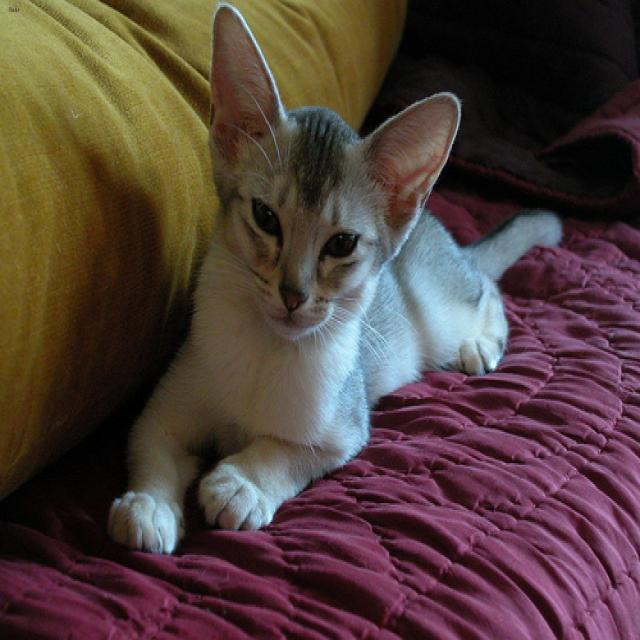Abyssinian: (206, 3, 466, 344)
